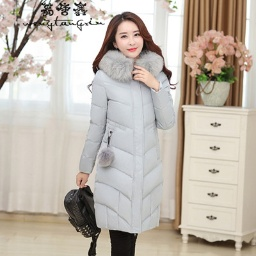face: (97, 13, 151, 60)
